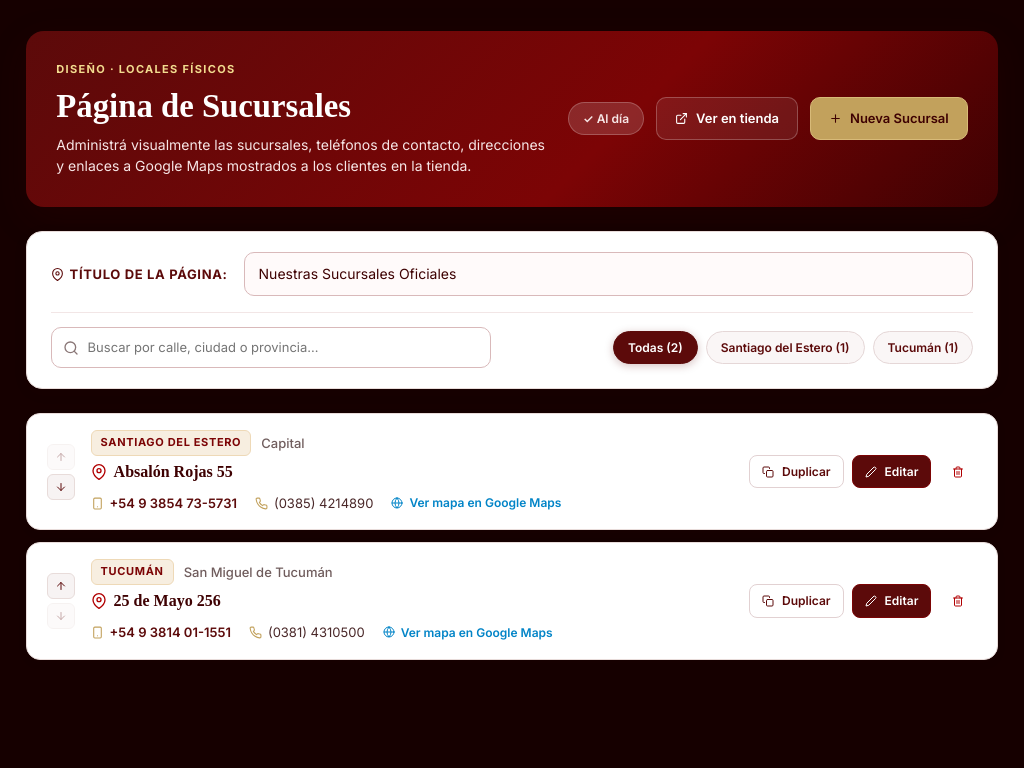
Test case: SucursalesAdmin — Panel Administrativo de Sucursales › permite filtrar por búsqueda de texto y por píldora de provincia
Expected: the text "Absalón Rojas 55" is shown, [114, 462, 233, 483]
// Filtro por texto
Step 1. Type "Tucumán" into the field named "filtrar sucursales" → (271, 348), box [51, 328, 491, 368]
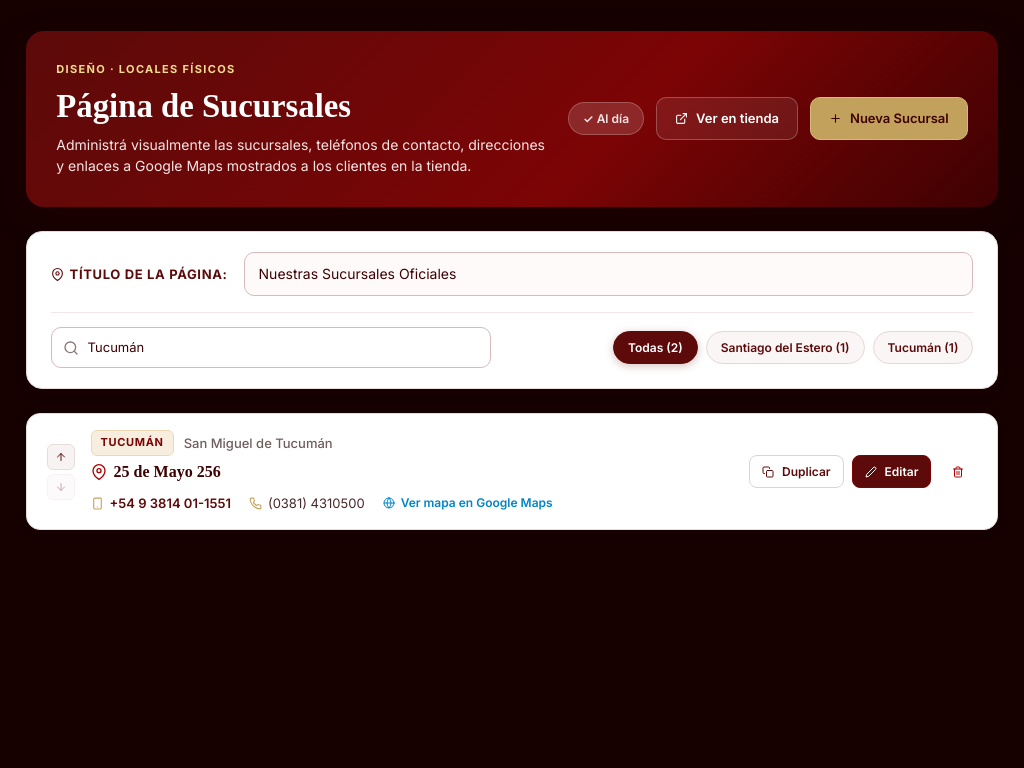
Expected: the text "25 de Mayo 256" is shown, [114, 462, 221, 483]
Now the text "Absalón Rojas 55" is gone
// Limpiar búsqueda
Step 2. Clear the field named "filtrar sucursales" → (271, 348), box [51, 328, 491, 368]
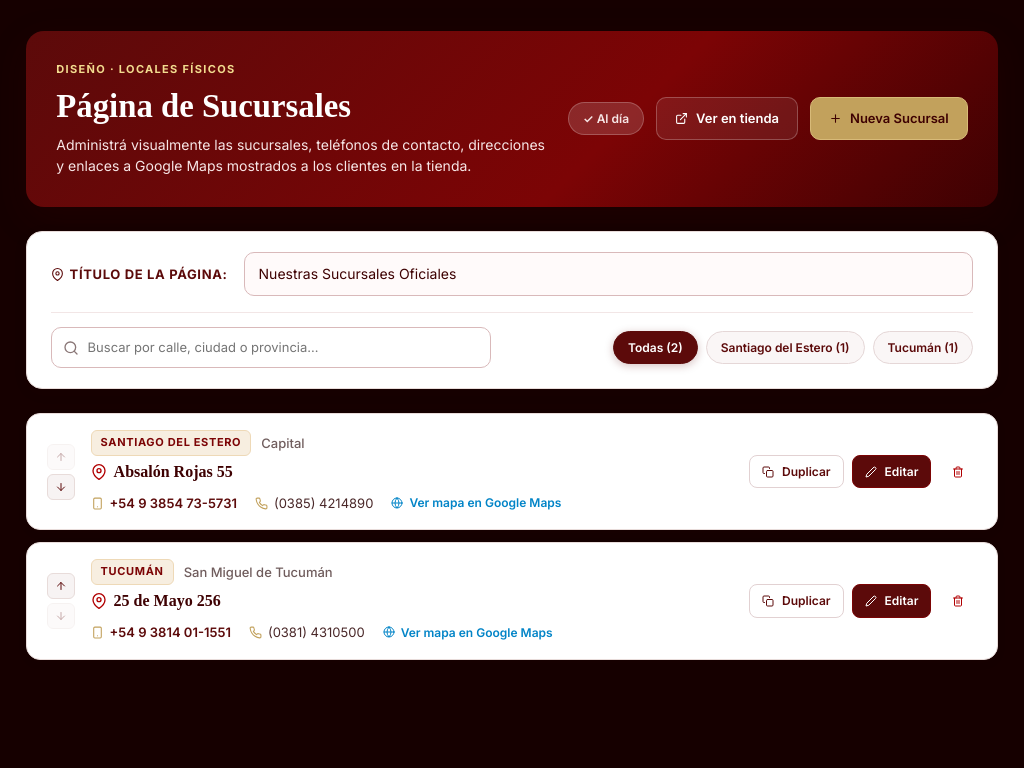
// Filtro por píldora
Step 3. Click the button "Santiago del Estero (1)" → click(785, 348), box [706, 331, 864, 364]
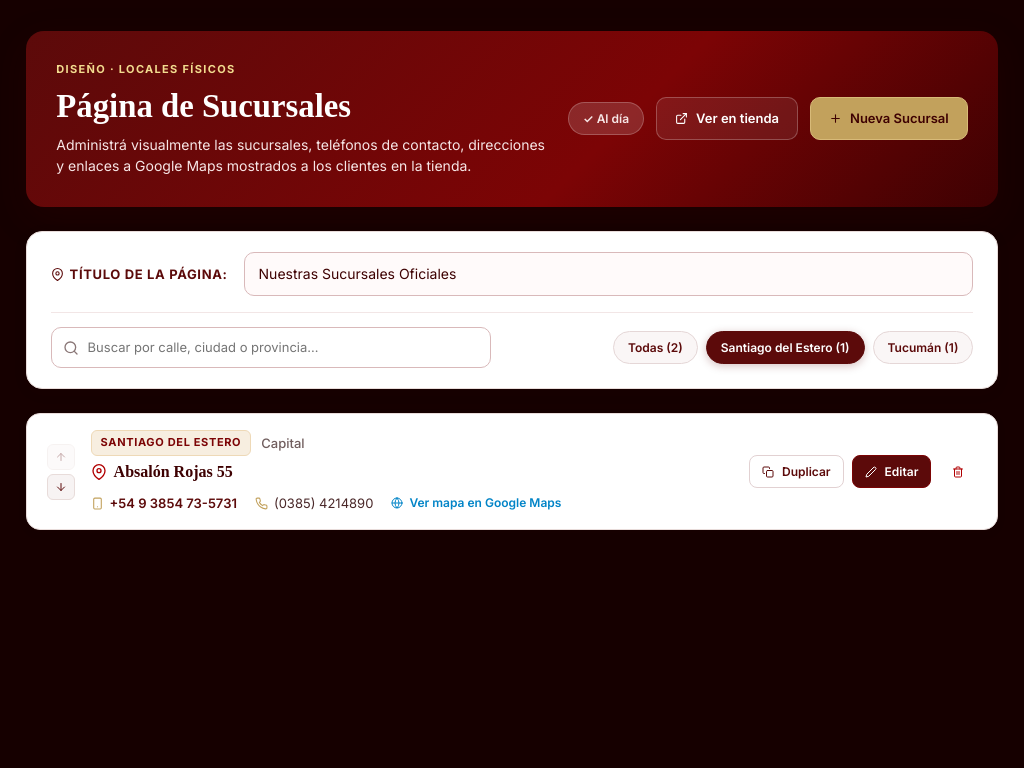
Now the text "Absalón Rojas 55" is shown, box [114, 462, 233, 483]
Now the text "25 de Mayo 256" is gone
